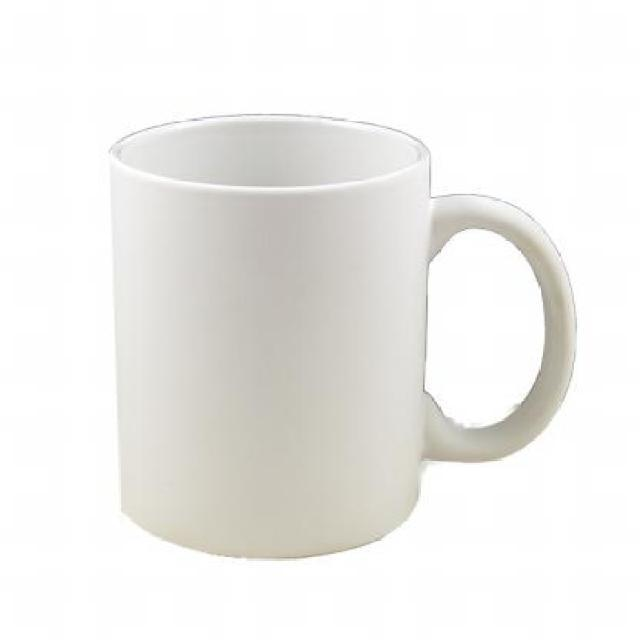cup: (92, 111, 582, 569)
